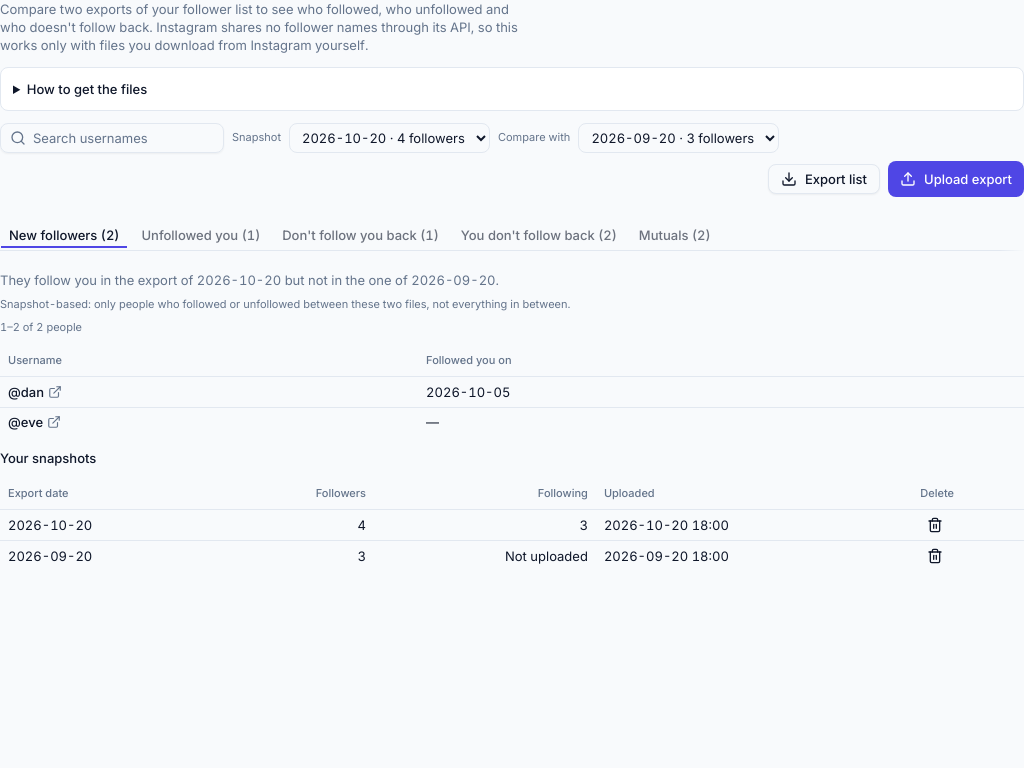
Test: FollowersTab › deleting a snapshot that is already gone says so (not "this account no longer exists")
Step 1. Click the button named "Delete the snapshot of 2026-09-20" → (935, 556), box [920, 541, 950, 571]
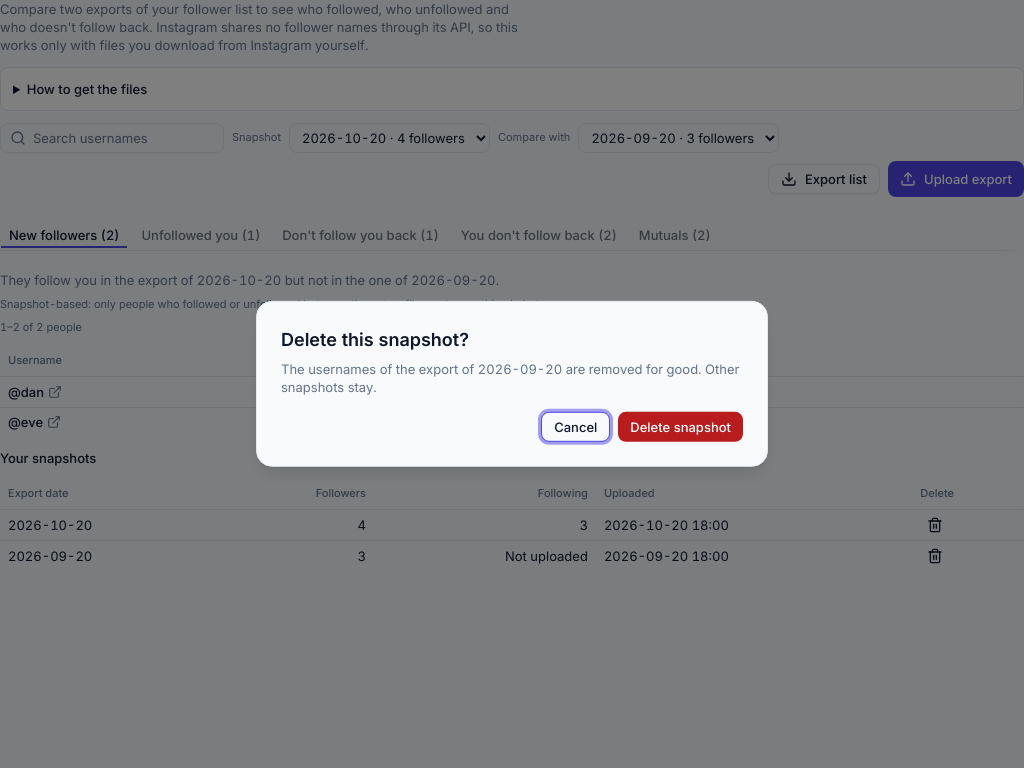
Step 2. Click the button "Delete snapshot" → (681, 427), box [618, 412, 743, 442]
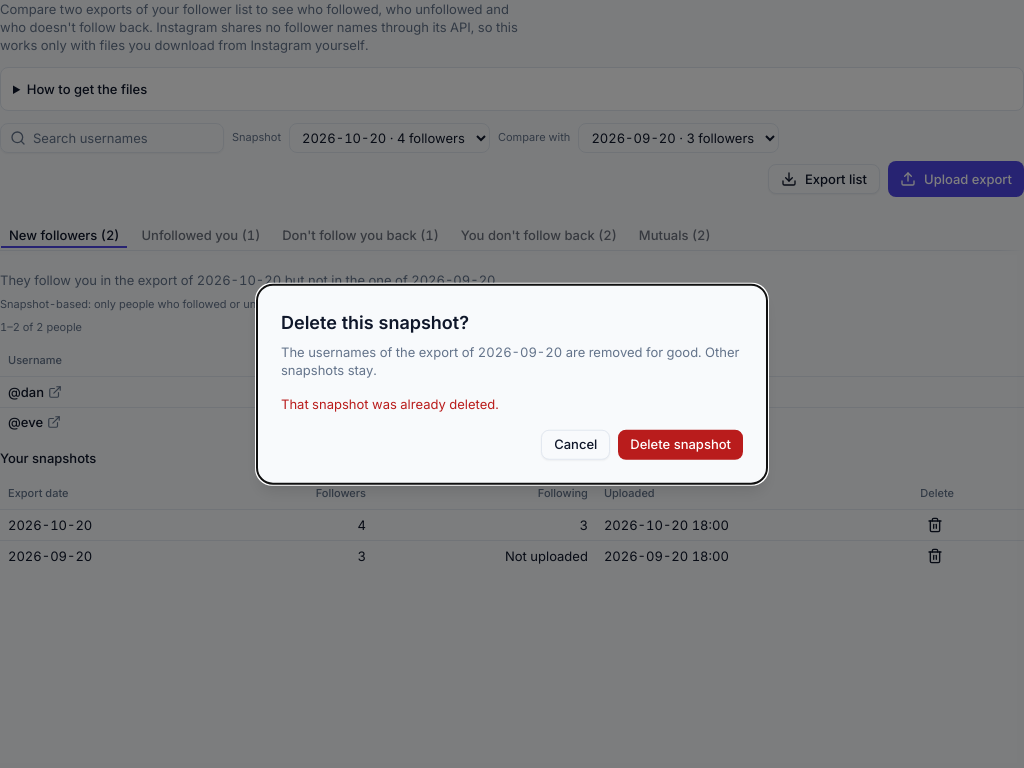
expect the dialog does not show "This account no longer exists.": met, box [256, 284, 768, 484]
expect the dialog shows "That snapshot was already deleted.": met, box [281, 396, 499, 412]
